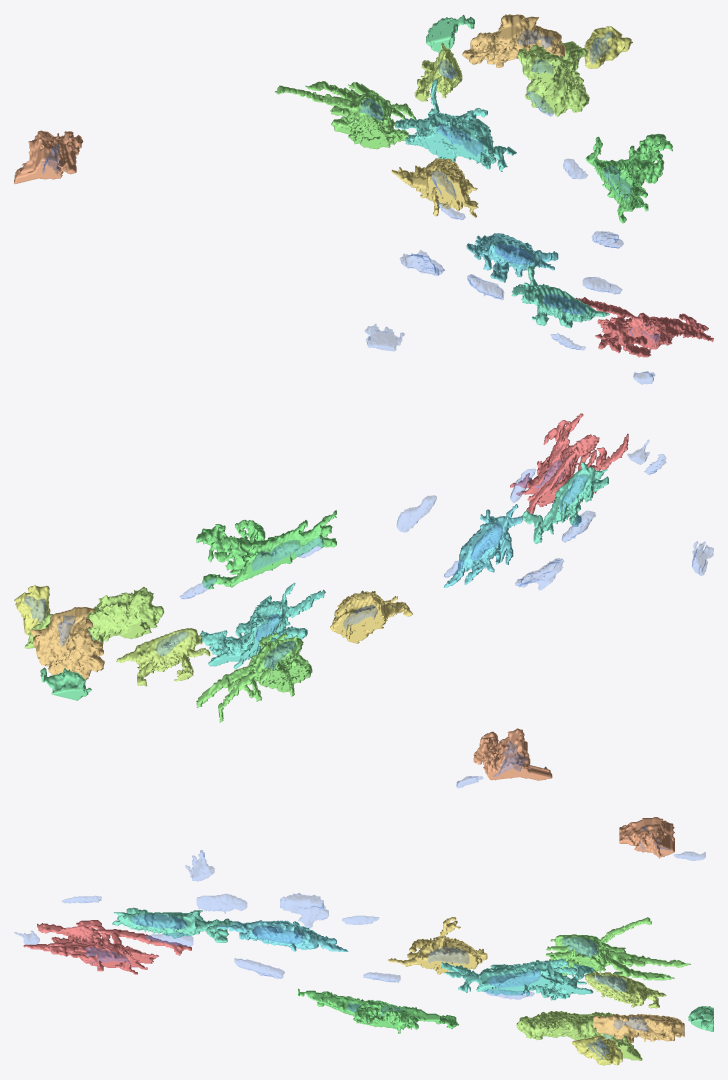
3 renders of one model, top to bottom at view 1: azimuth 30°, elevation 25°; view 2: azimuth 150°, elevation 25°; view 3: azimuth 270°, elevation 25°, orthographic. The views are drawn at different scales.
Visible parts, largest first — view 1: osteocyte_28, osteocyte_12, osteocyte_13, osteocyte_6, osteocyte_10, osteocyte_29, osteocyte_11, osteocyte_17, osteocyte_26, osteocyte_30, osteocyte_32, osteocyte_22 (+4 smaller); view 2: osteocyte_10, osteocyte_28, osteocyte_6, osteocyte_12, osteocyte_29, osteocyte_13, osteocyte_26, osteocyte_32, osteocyte_17, osteocyte_11, osteocyte_30, osteocyte_22 (+4 smaller); view 3: osteocyte_6, osteocyte_12, osteocyte_28, osteocyte_10, osteocyte_13, osteocyte_30, osteocyte_11, osteocyte_26, osteocyte_29, osteocyte_17, osteocyte_32, nucleus_7 (+11 smaller).
Part boxes in pixels (x1=…): osteocyte_28: x1=275, y1=81, x2=415, y2=149; osteocyte_12: x1=395, y1=79, x2=516, y2=171; osteocyte_13: x1=517, y1=41, x2=589, y2=116; osteocyte_6: x1=575, y1=297, x2=713, y2=357; osteocyte_10: x1=585, y1=133, x2=672, y2=223; osteocyte_29: x1=462, y1=14, x2=564, y2=67; osteocyte_11: x1=391, y1=158, x2=478, y2=217; osteocyte_17: x1=14, y1=130, x2=83, y2=183; osteocyte_26: x1=466, y1=233, x2=558, y2=282; osteocyte_30: x1=511, y1=265, x2=609, y2=328; osteocyte_32: x1=414, y1=43, x2=462, y2=101; osteocyte_22: x1=584, y1=26, x2=632, y2=68; osteocyte_10: x1=196, y1=510, x2=336, y2=589; osteocyte_28: x1=196, y1=632, x2=312, y2=722; osteocyte_6: x1=510, y1=413, x2=628, y2=513; osteocyte_12: x1=200, y1=582, x2=325, y2=668; osteocyte_29: x1=30, y1=607, x2=104, y2=680; osteocyte_13: x1=24, y1=587, x2=164, y2=648; osteocyte_26: x1=443, y1=504, x2=522, y2=587; osteocyte_32: x1=116, y1=628, x2=210, y2=686; osteocyte_17: x1=473, y1=728, x2=552, y2=780; osteocyte_11: x1=330, y1=590, x2=412, y2=643; osteocyte_30: x1=522, y1=462, x2=608, y2=543; osteocyte_22: x1=14, y1=585, x2=50, y2=635; osteocyte_6: x1=23, y1=920, x2=191, y2=974; osteocyte_12: x1=441, y1=958, x2=594, y2=1000; osteocyte_28: x1=546, y1=917, x2=690, y2=980; osteocyte_10: x1=298, y1=988, x2=458, y2=1033; osteocyte_13: x1=516, y1=1011, x2=642, y2=1060; osteocyte_30: x1=112, y1=907, x2=232, y2=942; osteocyte_11: x1=388, y1=917, x2=487, y2=974; osteocyte_26: x1=216, y1=920, x2=348, y2=951; osteocyte_29: x1=593, y1=1014, x2=684, y2=1043; osteocyte_17: x1=619, y1=817, x2=674, y2=858; osteocyte_32: x1=585, y1=970, x2=666, y2=1008; nucleus_7: x1=280, y1=893, x2=328, y2=927.
Size of the model in its own units: 156 by 8.05 by 192.
